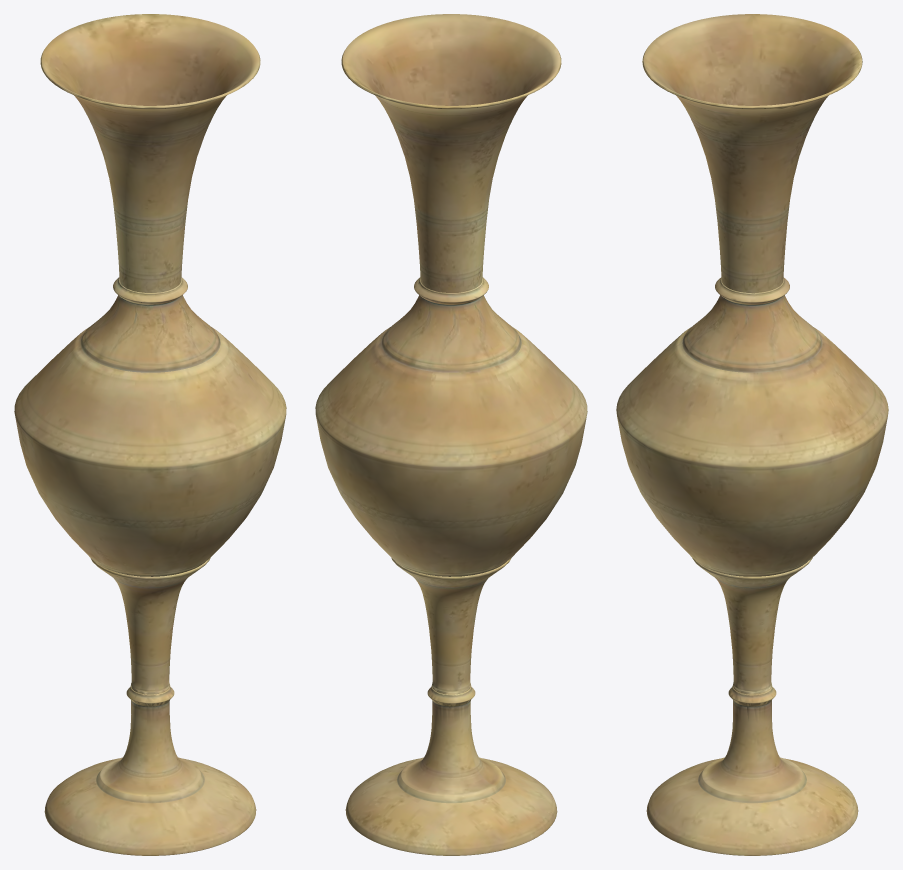
File: brass_vase_01.glb
3 renders of one model, left to right at view 1: azimuth 30°, elevation 25°; view 2: azimuth 150°, elevation 25°; view 3: azimuth 270°, elevation 25°, orthographic.
Parts seen in each view (by area): view 1: brass_vase_01; view 2: brass_vase_01; view 3: brass_vase_01.
Part boxes in pixels (x1=…): brass_vase_01: x1=14, y1=14, x2=286, y2=855; brass_vase_01: x1=315, y1=14, x2=587, y2=855; brass_vase_01: x1=616, y1=14, x2=888, y2=855.
Bounding box in the file's own units: 0.2273 × 0.6925 × 0.2273.
1 material, 1 textured.
